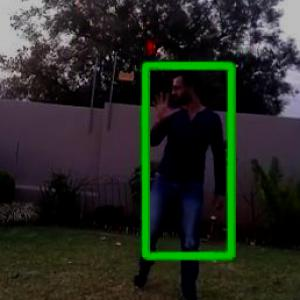follow_hand: (148, 85, 181, 122)
